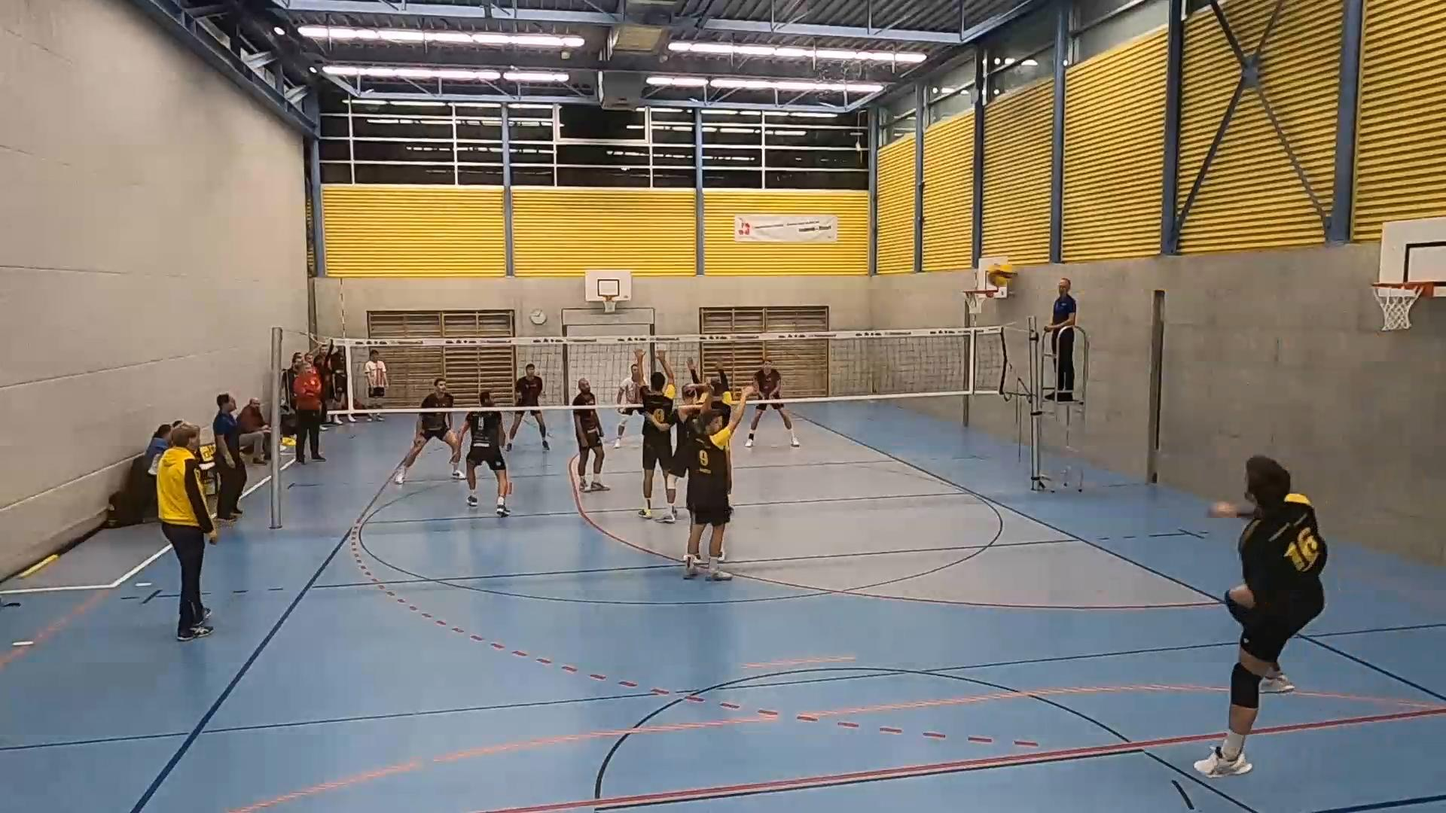Player: (684, 387, 752, 580), (395, 378, 462, 484), (639, 349, 676, 522), (462, 411, 508, 516), (572, 379, 609, 491), (688, 359, 732, 422), (614, 358, 642, 447), (746, 403, 799, 447), (514, 364, 543, 407)
Serve: (1192, 441, 1331, 783)
ball: (983, 260, 1019, 290)
